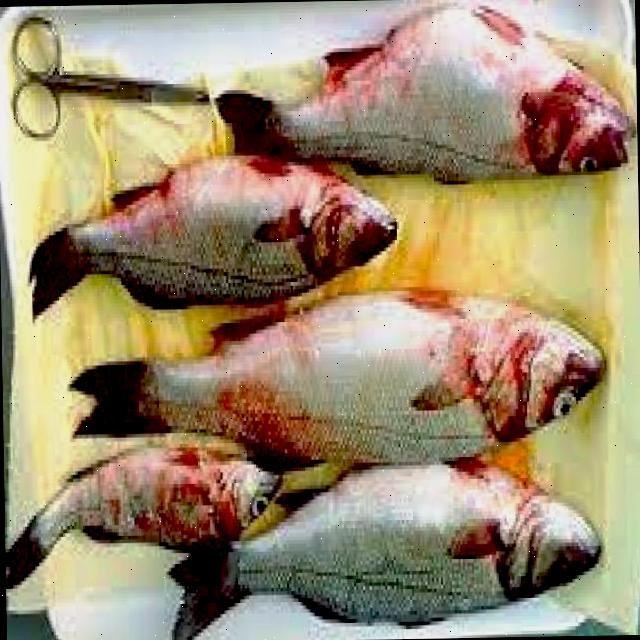Epizootic Ulcerative Syndrome -EUS-: (79, 292, 603, 471), (170, 459, 599, 640), (217, 7, 632, 183), (30, 154, 395, 314), (5, 442, 275, 588)
